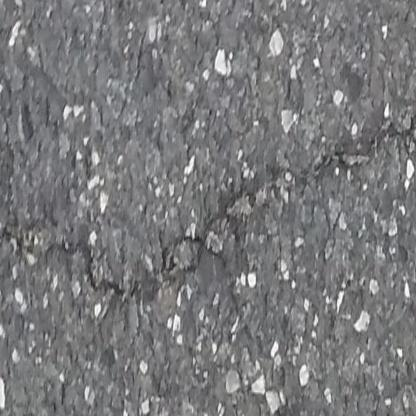Cracks: (159, 112, 416, 278), (0, 217, 136, 311)
